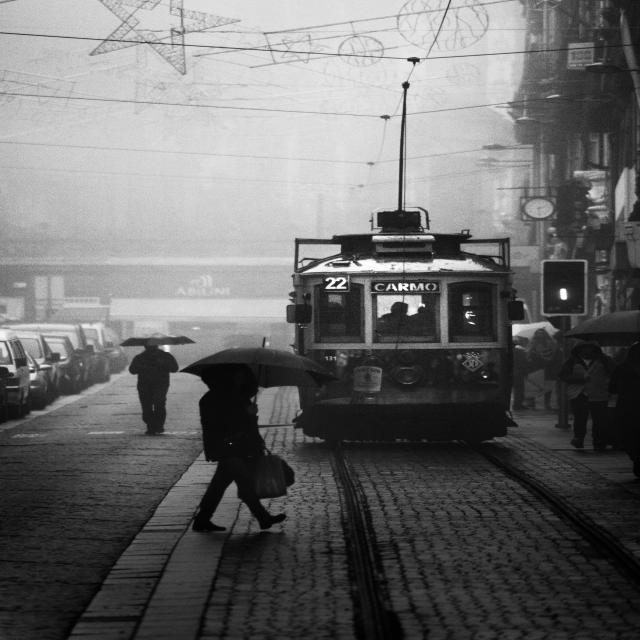stand: (189, 352, 287, 538), (124, 319, 182, 459)
